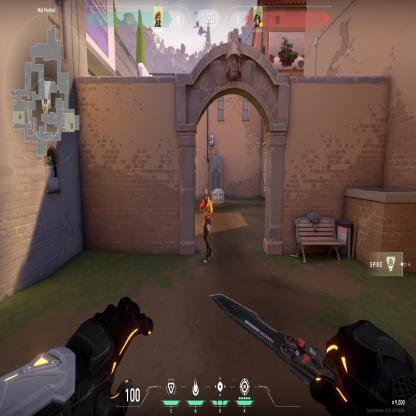enemy: (198, 187, 214, 265)
